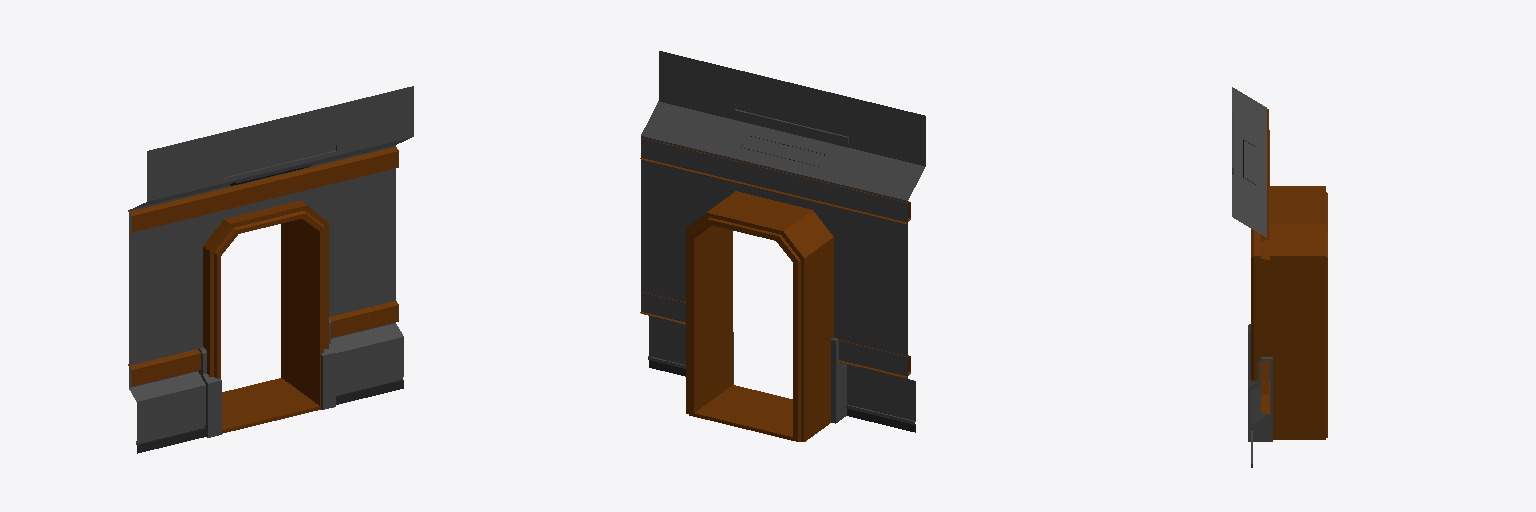
Rendered from DoorSingle_Wall_SideA.obj.
The picture shows the model from 3 angles: view 1: azimuth 30°, elevation 25°; view 2: azimuth 150°, elevation 25°; view 3: azimuth 270°, elevation 25°; orthographic projection.
Parts seen in each view (by area): view 1: DoorSingle_Wall_SideA_Plane.313; view 2: DoorSingle_Wall_SideA_Plane.313; view 3: DoorSingle_Wall_SideA_Plane.313.
Part boxes in pixels (bbox=[...]): DoorSingle_Wall_SideA_Plane.313: bbox=[128, 86, 413, 453]; DoorSingle_Wall_SideA_Plane.313: bbox=[640, 51, 925, 441]; DoorSingle_Wall_SideA_Plane.313: bbox=[1232, 87, 1327, 467].
Bounding box in the file's own units: 4 × 4.44 × 1.25.